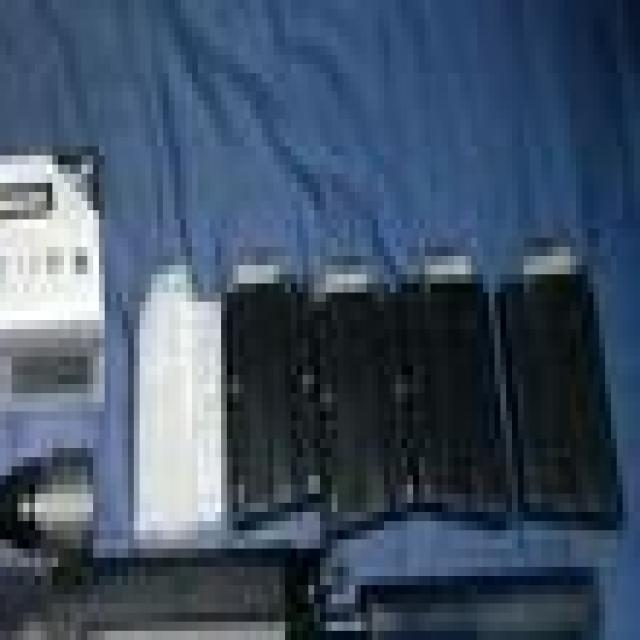Guns: (0, 375, 617, 640)
